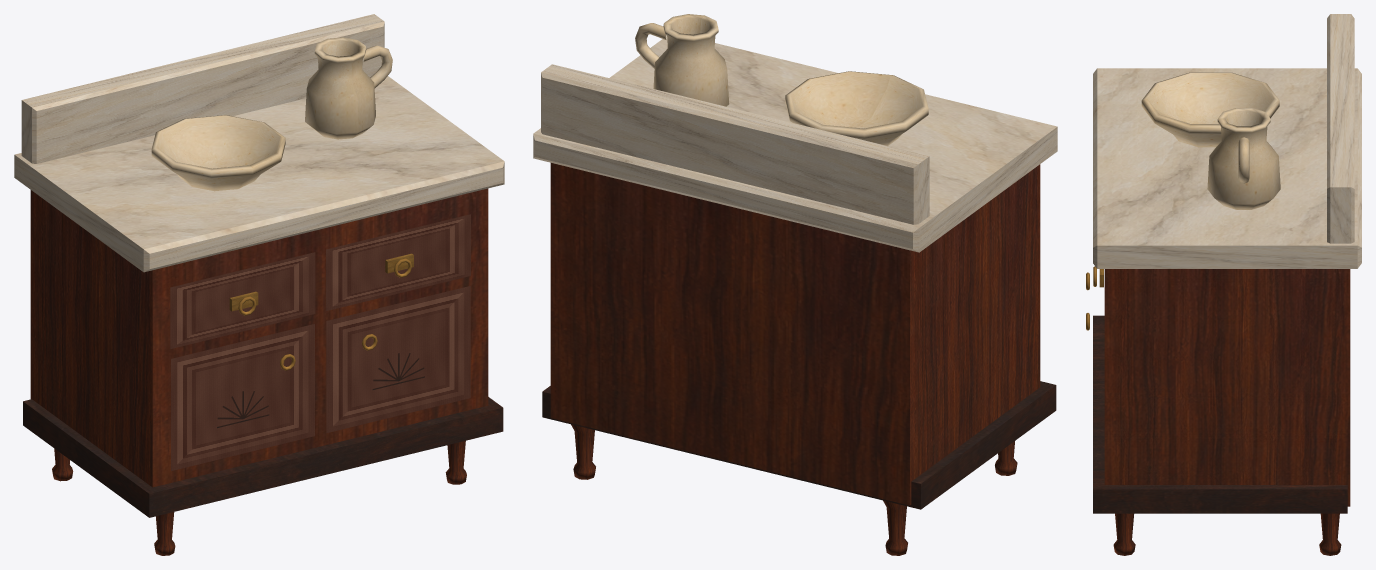
The model's file is city1880-washstand.gltf.
The picture shows the model from 3 angles, left to right: view 1: azimuth 30°, elevation 25°; view 2: azimuth 150°, elevation 25°; view 3: azimuth 270°, elevation 25°; orthographic projection. The views are drawn at different scales.
Parts seen in each view (by area): view 1: Eastlake marble washstand; view 2: Eastlake marble washstand; view 3: Eastlake marble washstand.
Part boxes in pixels (x1,y1,x2,y2): Eastlake marble washstand: (14,14,504,555); Eastlake marble washstand: (533,14,1057,555); Eastlake marble washstand: (1086,14,1361,555).
Bounding box in the file's own units: 0.881 × 0.94 × 0.5795.
Materials: 2 (2 with a texture image).
